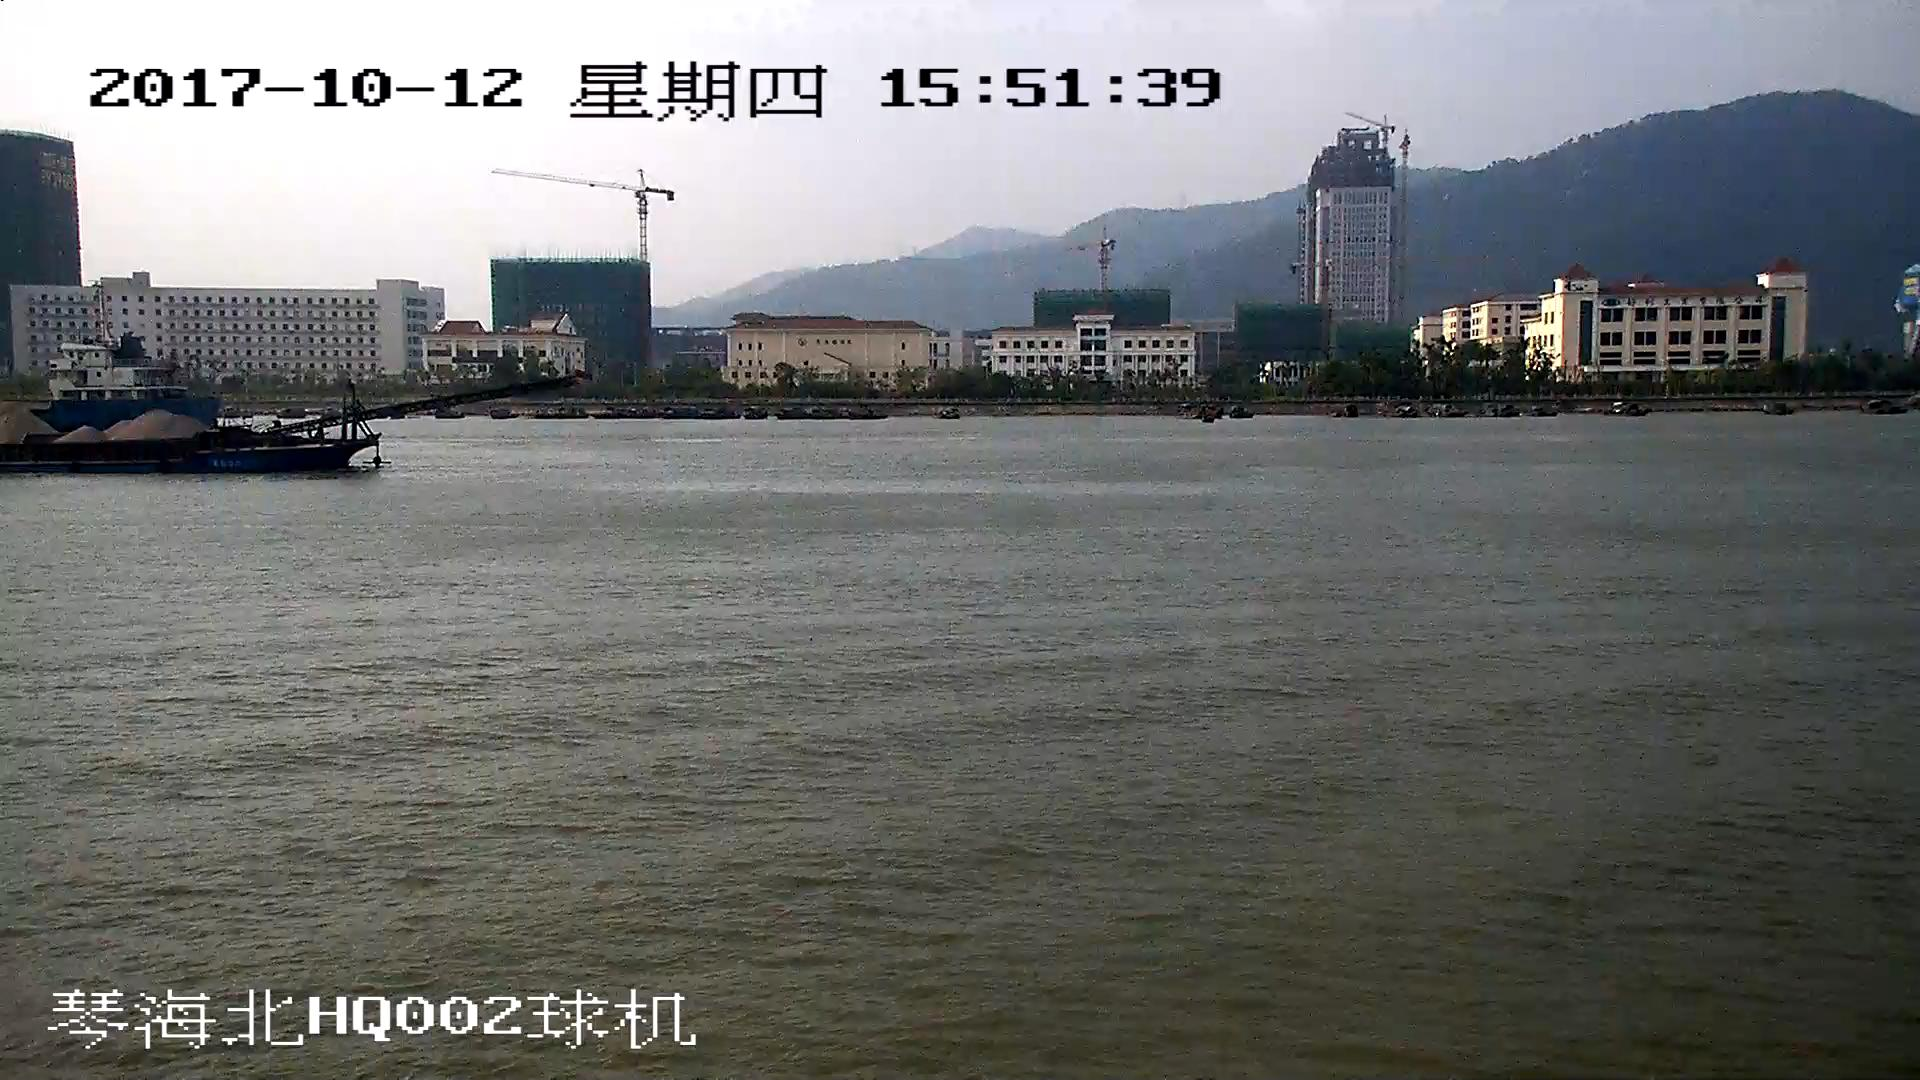ore carrier: (1, 372, 572, 469)
